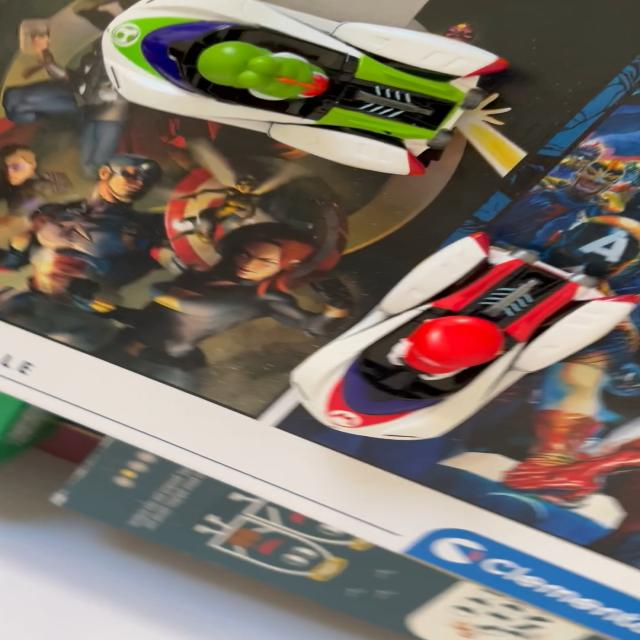mario: (258, 214, 638, 447)
yoshi: (75, 2, 564, 198)
